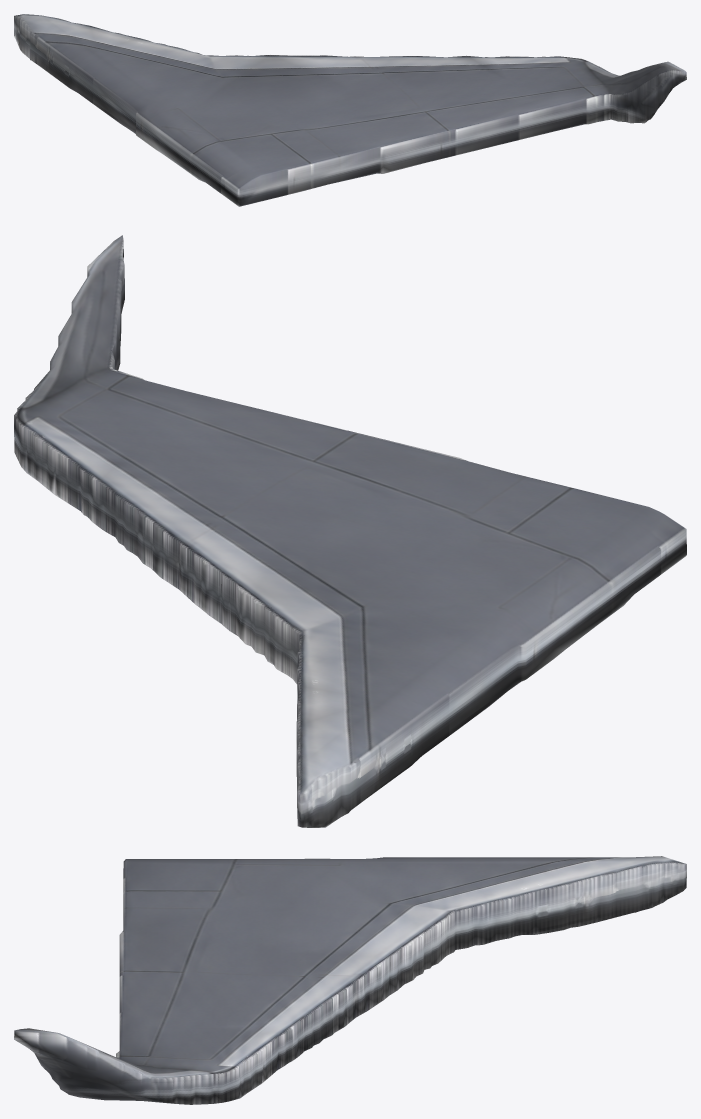
Rendered from wing.glb.
3 renders of one model, top to bottom at view 1: azimuth 30°, elevation 25°; view 2: azimuth 150°, elevation 25°; view 3: azimuth 270°, elevation 25°, orthographic. The views are drawn at different scales.
Parts seen in each view (by area): view 1: wing; view 2: wing; view 3: wing.
Part boxes in pixels (x1,y1,x2,y2): wing: (14, 14, 686, 206); wing: (14, 235, 686, 827); wing: (14, 856, 686, 1104).
Size of the model in its own units: 1.99 by 0.3903 by 2.39.
1 material, 1 textured.
